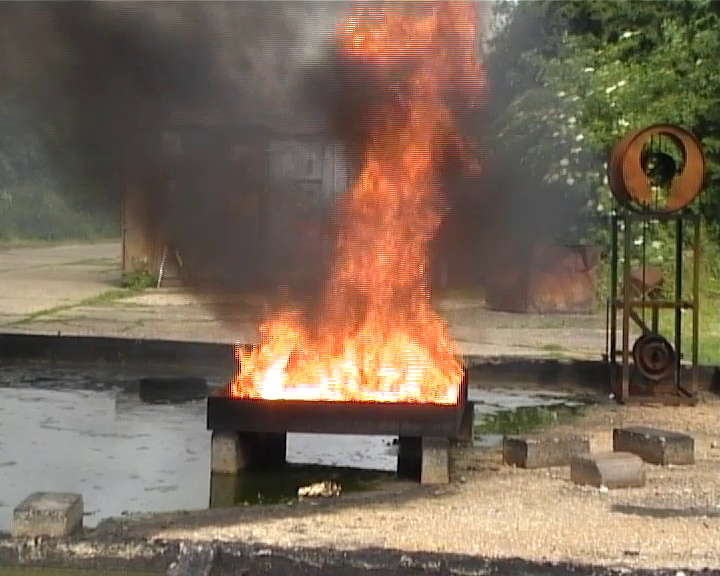fire: (233, 100, 461, 403), (339, 1, 476, 56)
